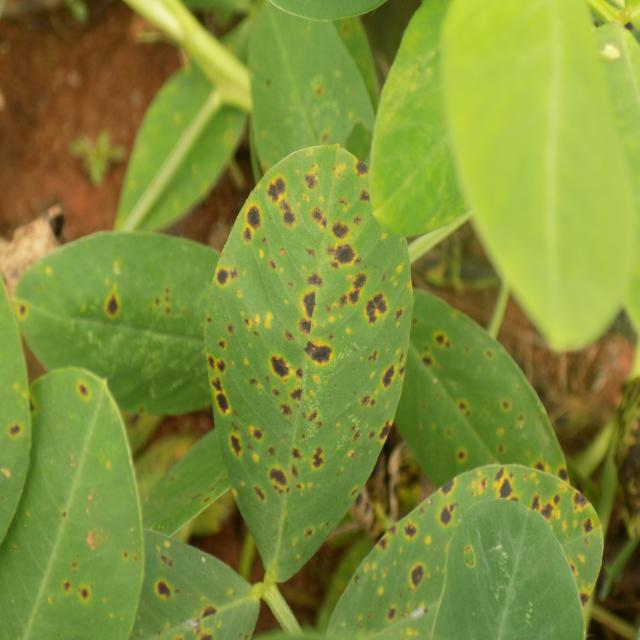Ground nut_tikka leaf spot: (200, 143, 414, 588), (345, 282, 580, 528), (14, 227, 291, 420)
